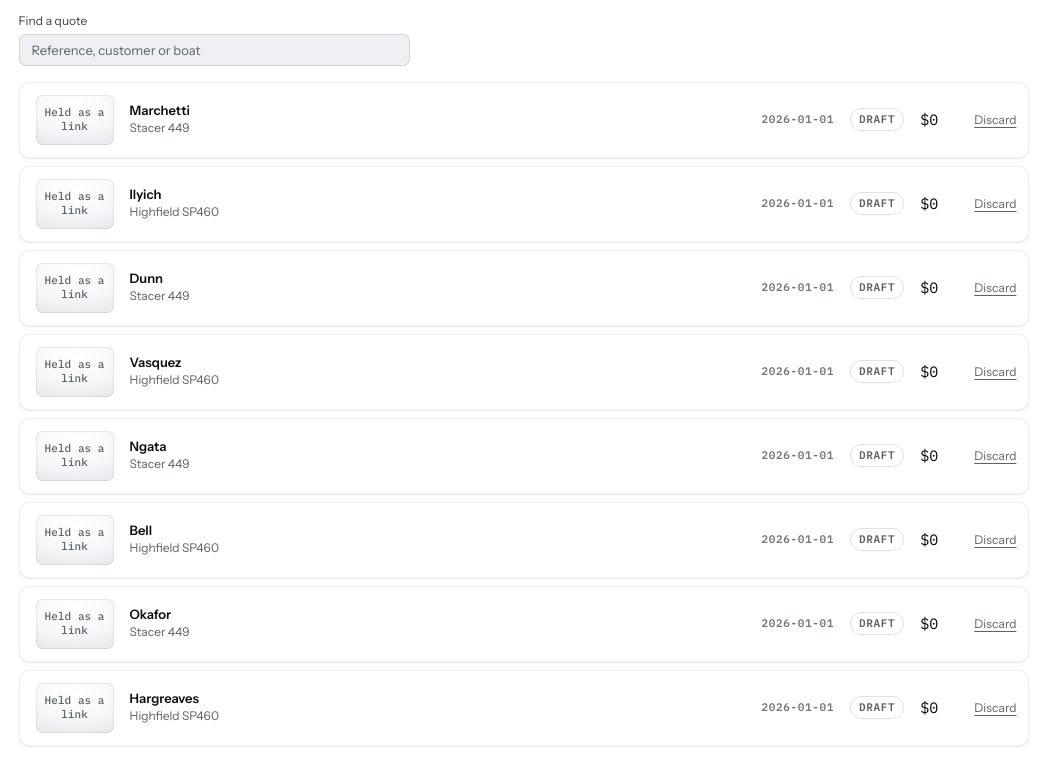
it: a find that holds nothing › SAYS SO WHERE THE LIST WAS, and quotes the string back
This screenshot has width=1046, height=764.
In the search field labelled "Find a quote": (214,50) [18,34,410,66], type "Hargraves"
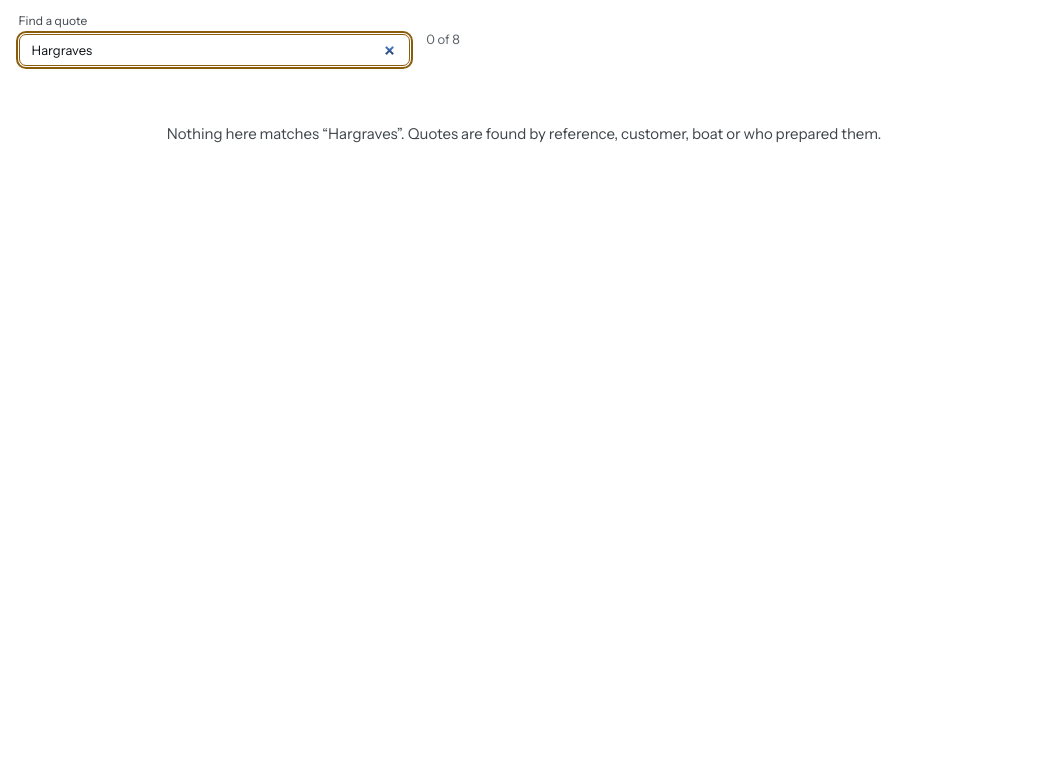
Check: no list items are shown
Check: the text "Hargraves" is shown, box [167,124,881,143]
